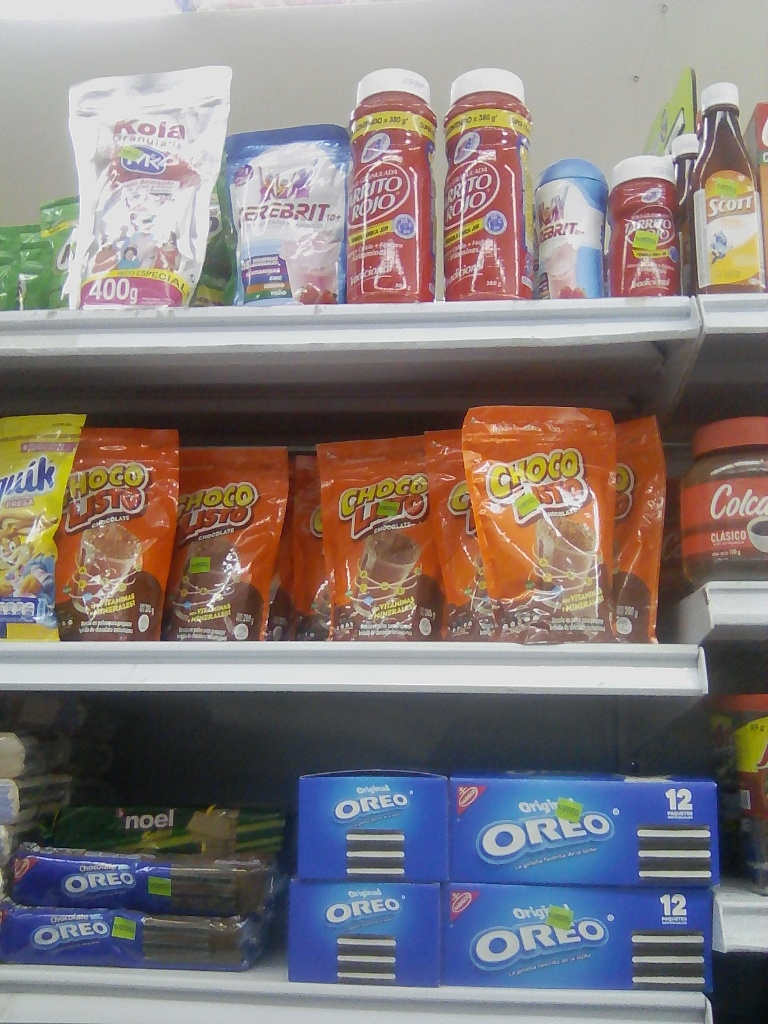COL0170305DYP20000: (2, 409, 88, 648)
